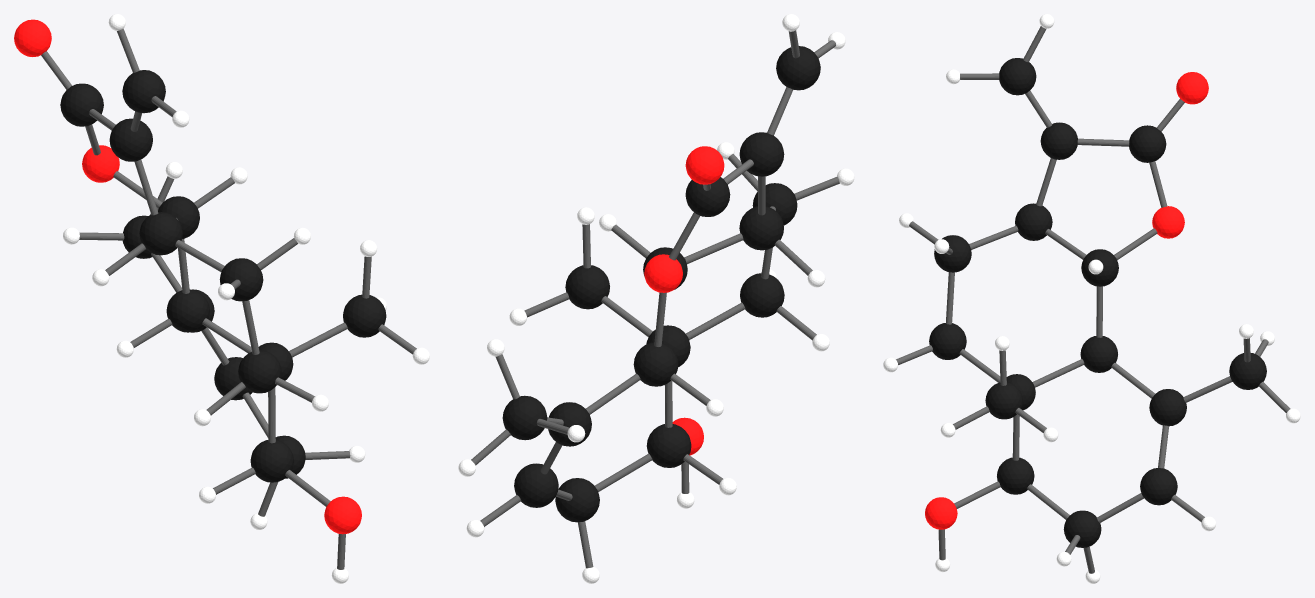
Rendered from molecule.glb.
3 views of the same model, side by side, from view 1: azimuth 30°, elevation 25°; view 2: azimuth 150°, elevation 25°; view 3: azimuth 270°, elevation 25° (orthographic). The views are drawn at different scales.
Parts seen in each view (by area): view 1: geometry_6, geometry_10, geometry_11, geometry_16, geometry_8, geometry_2, geometry_0, geometry_1, geometry_7, geometry_17, geometry_3, geometry_4 (+4 smaller); view 2: geometry_10, geometry_16, geometry_11, geometry_8, geometry_14, geometry_1, geometry_0, geometry_13, geometry_6, geometry_15, geometry_2, geometry_3 (+8 smaller); view 3: geometry_2, geometry_1, geometry_12, geometry_14, geometry_0, geometry_11, geometry_6, geometry_16, geometry_8, geometry_10, geometry_13, geometry_15 (+6 smaller).
Part boxes in pixels (box(x1,y1,x2,y2)): geometry_6: box(139, 212, 182, 255); geometry_10: box(343, 294, 386, 337); geometry_11: box(166, 289, 209, 332); geometry_16: box(250, 439, 293, 482); geometry_8: box(238, 350, 281, 393); geometry_2: box(60, 83, 103, 126); geometry_0: box(122, 70, 165, 113); geometry_1: box(109, 118, 152, 161); geometry_7: box(219, 258, 263, 301); geometry_17: box(324, 496, 361, 534); geometry_3: box(14, 19, 51, 56); geometry_4: box(82, 145, 119, 182); geometry_10: box(565, 265, 609, 309); geometry_16: box(646, 424, 691, 467); geometry_11: box(633, 342, 678, 386); geometry_8: box(740, 273, 784, 317); geometry_14: box(514, 463, 558, 507); geometry_1: box(739, 132, 784, 176); geometry_0: box(776, 46, 820, 90); geometry_13: box(502, 395, 547, 440); geometry_6: box(739, 206, 783, 250); geometry_15: box(555, 478, 599, 522); geometry_2: box(685, 177, 730, 216); geometry_3: box(685, 146, 724, 184); geometry_2: box(1129, 125, 1166, 162); geometry_1: box(1040, 122, 1077, 159); geometry_12: box(1149, 389, 1186, 426); geometry_14: box(1140, 468, 1177, 505); geometry_0: box(999, 58, 1036, 95); geometry_11: box(1080, 336, 1117, 372); geometry_6: box(1015, 203, 1052, 240); geometry_16: box(997, 457, 1034, 494); geometry_8: box(929, 323, 966, 359); geometry_10: box(985, 382, 1022, 419); geometry_13: box(1229, 353, 1266, 389); geometry_15: box(1063, 510, 1101, 547).
Bounding box in the file's own units: 0.1398 × 0.257 × 0.1954.
